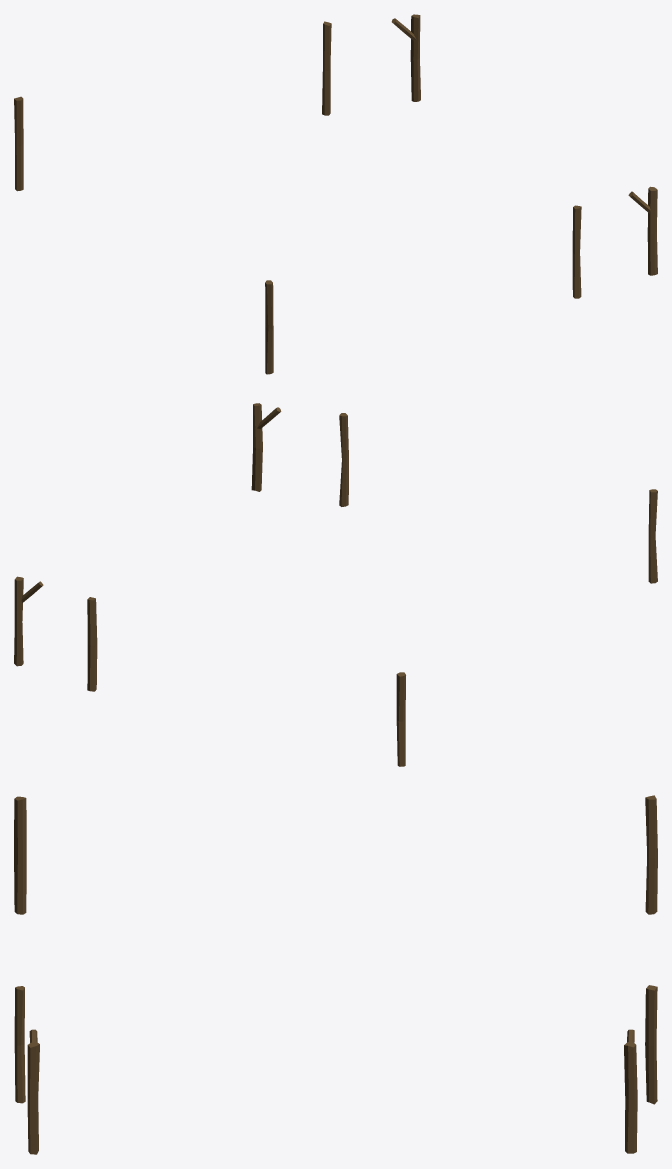
File: farmhouse_timber_details.glb
3 renders of one model, top to bottom at view 1: azimuth 30°, elevation 25°; view 2: azimuth 150°, elevation 25°; view 3: azimuth 270°, elevation 25°, orthographic. The views are drawn at different scales.
Visible parts, largest first — view 1: farmhouse_timber_details.004; view 2: farmhouse_timber_details.004; view 3: farmhouse_timber_details.004.
Boxes of the visible parts, box(x1,y1,x2,y2) form: farmhouse_timber_details.004: box(14, 14, 657, 374); farmhouse_timber_details.004: box(14, 403, 657, 766); farmhouse_timber_details.004: box(14, 795, 657, 1154).
Bounding box in the file's own units: 11.68 × 2.58 × 13.02.
